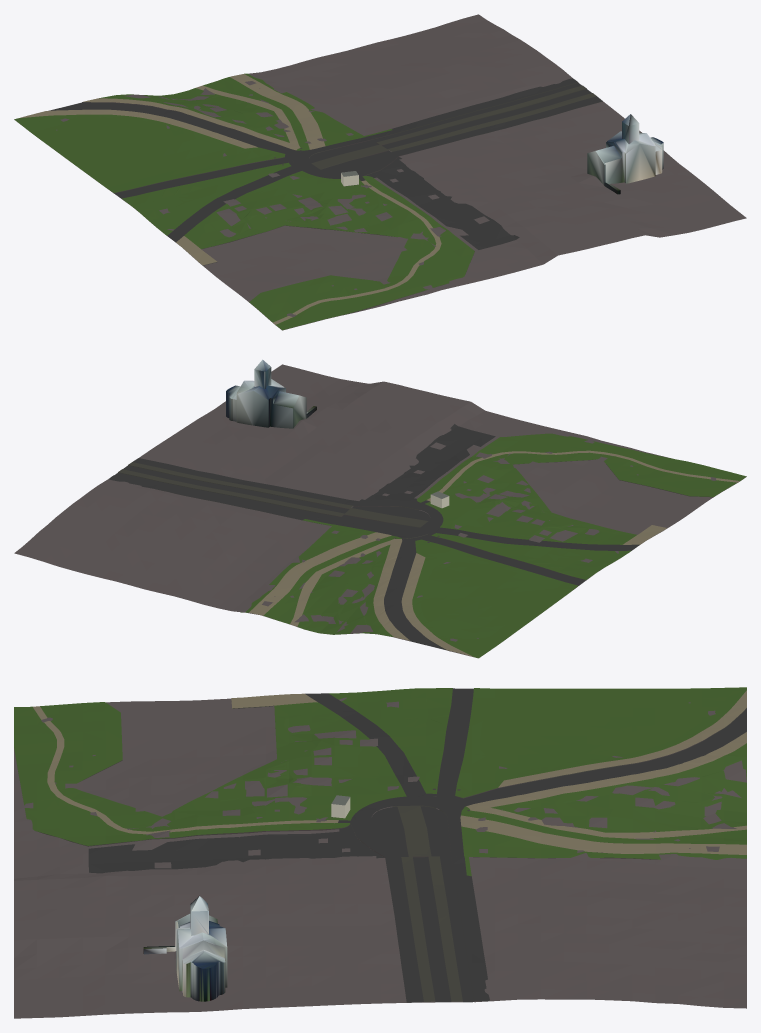
3 renders of one model, top to bottom at view 1: azimuth 30°, elevation 25°; view 2: azimuth 150°, elevation 25°; view 3: azimuth 270°, elevation 25°, orthographic. The views are drawn at different scales.
Visible parts, largest first — view 1: c_m16_p02; view 2: c_m16_p02; view 3: c_m16_p02.
Part boxes in pixels (x1=…): c_m16_p02: x1=14, y1=14, x2=746, y2=330; c_m16_p02: x1=14, y1=359, x2=746, y2=658; c_m16_p02: x1=14, y1=687, x2=746, y2=1018.
Size of the model in its own units: 128 by 17.65 by 128.
